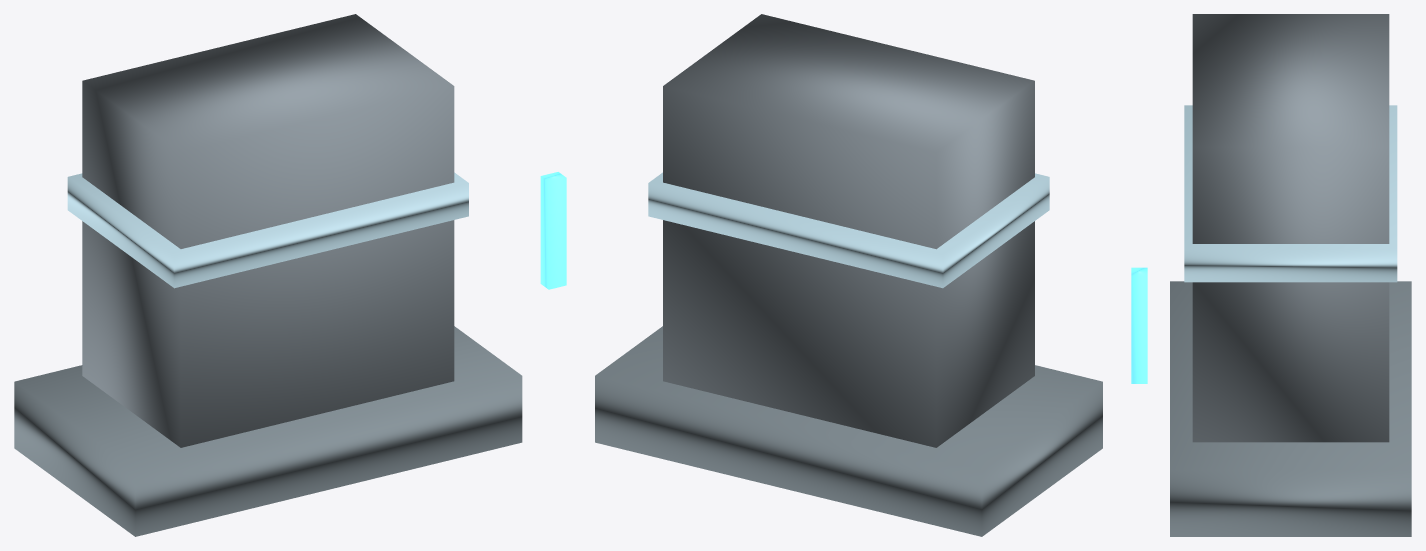
File: ice-mine-freeze-compressor-lod2.glb
The picture shows the model from 3 angles, left to right: view 1: azimuth 30°, elevation 25°; view 2: azimuth 150°, elevation 25°; view 3: azimuth 270°, elevation 25°; orthographic projection.
Parts seen in each view (by area): view 1: ice-mine-freeze-compressor-body, ice-mine-freeze-compressor-skid, ice-mine-freeze-compressor-jacket, ice-mine-freeze-compressor-status; view 2: ice-mine-freeze-compressor-body, ice-mine-freeze-compressor-skid, ice-mine-freeze-compressor-jacket; view 3: ice-mine-freeze-compressor-body, ice-mine-freeze-compressor-skid, ice-mine-freeze-compressor-jacket, ice-mine-freeze-compressor-status.
Part boxes in pixels (bbox=[...]): ice-mine-freeze-compressor-body: bbox=[82, 14, 454, 447]; ice-mine-freeze-compressor-skid: bbox=[14, 326, 522, 536]; ice-mine-freeze-compressor-jacket: bbox=[67, 172, 468, 288]; ice-mine-freeze-compressor-status: bbox=[540, 172, 566, 289]; ice-mine-freeze-compressor-body: bbox=[663, 14, 1034, 447]; ice-mine-freeze-compressor-skid: bbox=[595, 326, 1102, 536]; ice-mine-freeze-compressor-jacket: bbox=[648, 172, 1049, 288]; ice-mine-freeze-compressor-body: bbox=[1192, 14, 1389, 442]; ice-mine-freeze-compressor-skid: bbox=[1170, 281, 1411, 536]; ice-mine-freeze-compressor-jacket: bbox=[1184, 105, 1397, 282]; ice-mine-freeze-compressor-status: bbox=[1131, 267, 1147, 383].
Size of the model in its own units: 2.32 by 1.95 by 1.37.
